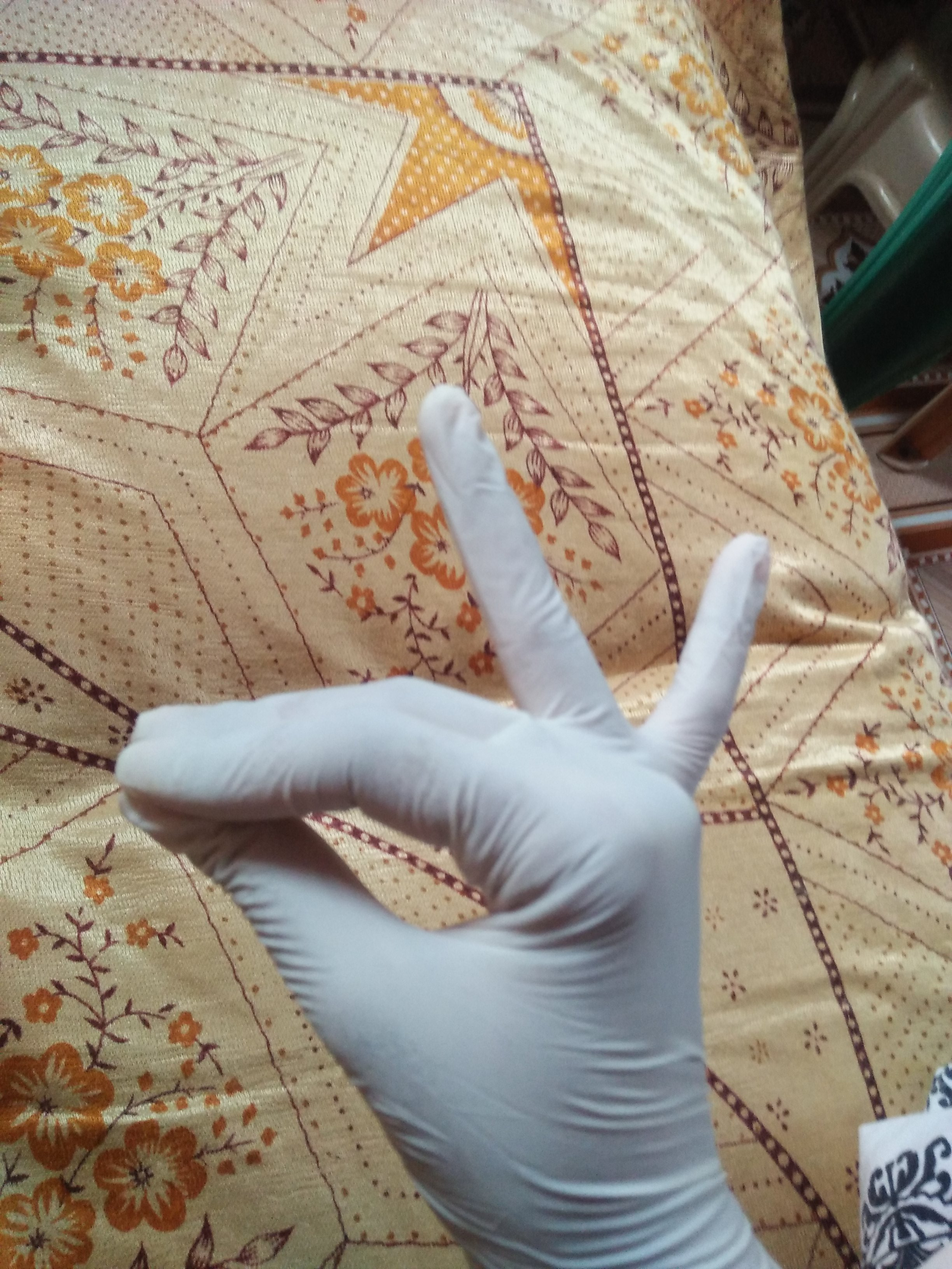gloves: (107, 383, 784, 1269)
